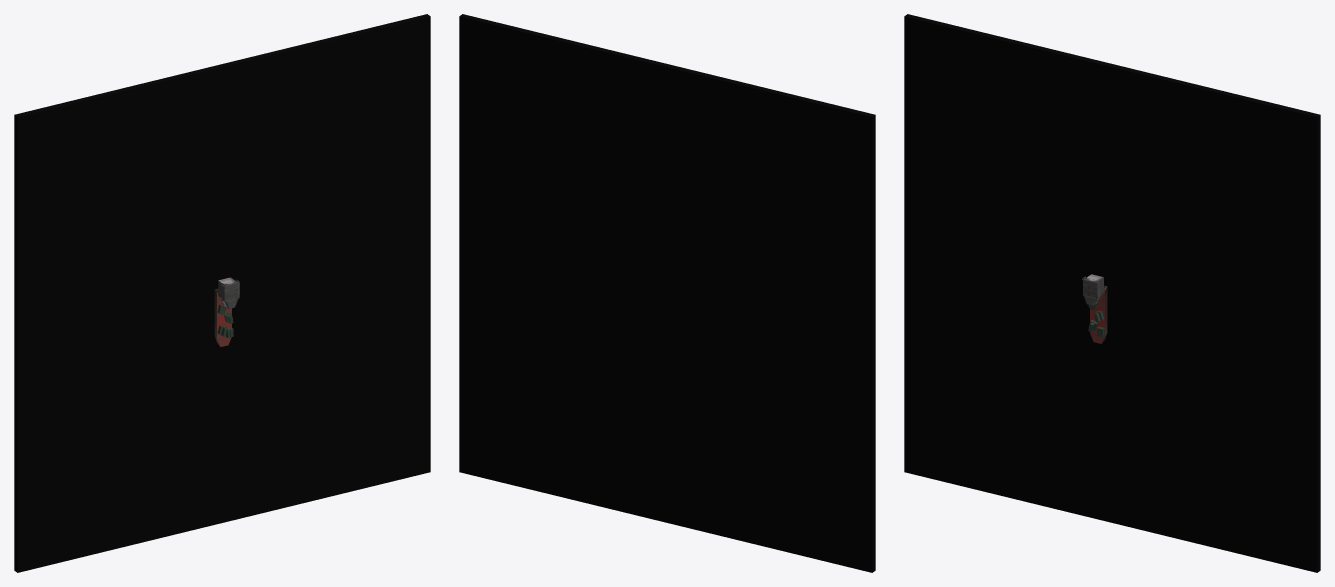
Rendered from Cargoship.obj.
3 renders of one model, left to right at view 1: azimuth 30°, elevation 25°; view 2: azimuth 150°, elevation 25°; view 3: azimuth 330°, elevation 25°, orthographic.
Parts seen in each view (by area): view 1: StackedCargo2.001_Cube.003; view 2: StackedCargo2.001_Cube.003; view 3: StackedCargo2.001_Cube.003.
Boxes of the visible parts, x1=… form: StackedCargo2.001_Cube.003: x1=14, y1=14, x2=430, y2=572; StackedCargo2.001_Cube.003: x1=459, y1=14, x2=875, y2=572; StackedCargo2.001_Cube.003: x1=904, y1=14, x2=1320, y2=572.
Bounding box in the file's own units: 633 × 668 × 47.13.
